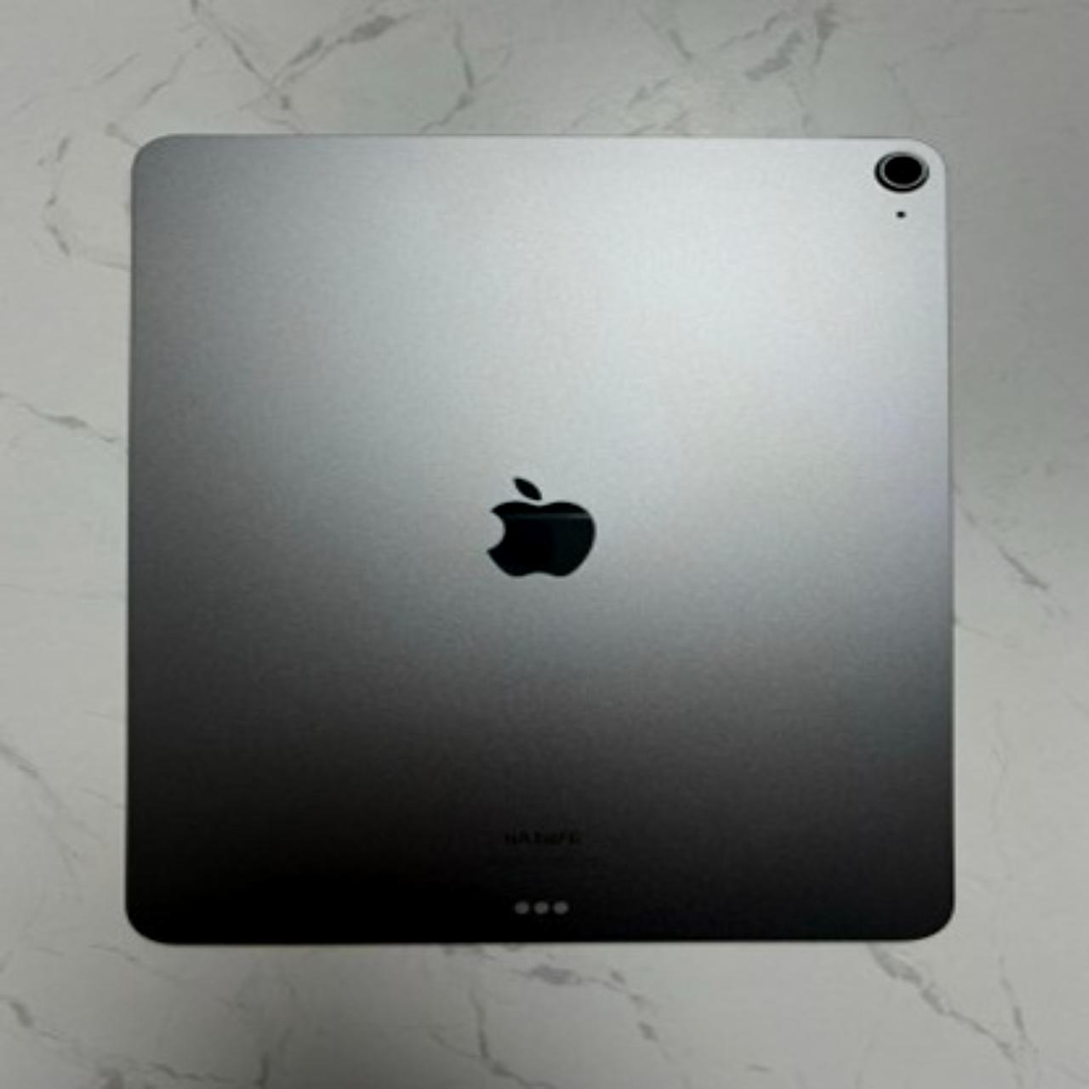Tablet_PC: (115, 123, 969, 963)
